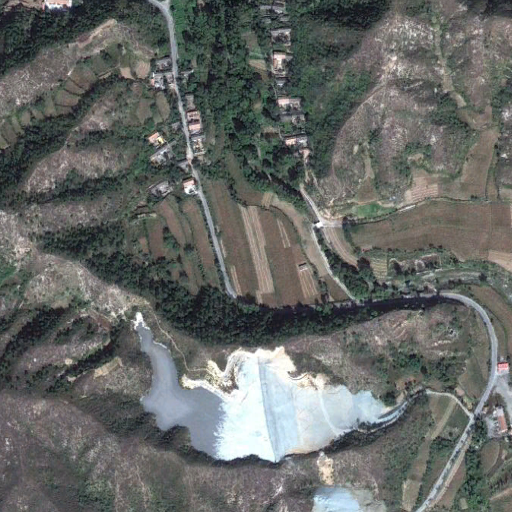tp: (132, 312, 390, 464)
